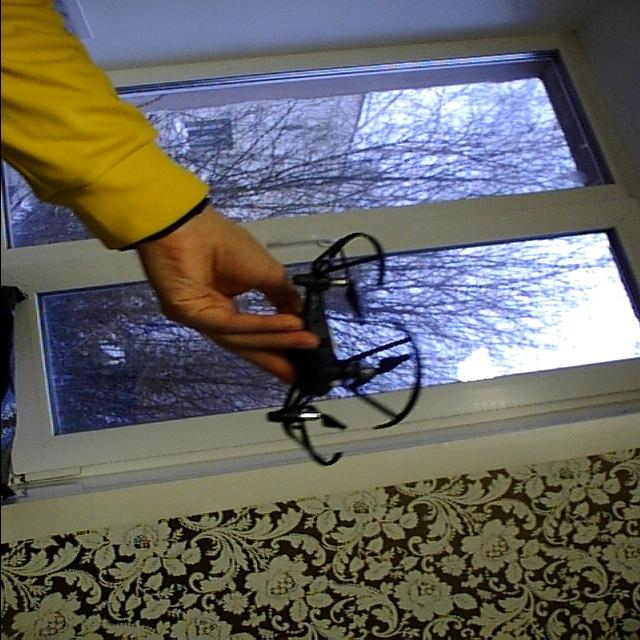drone: (234, 232, 426, 474)
